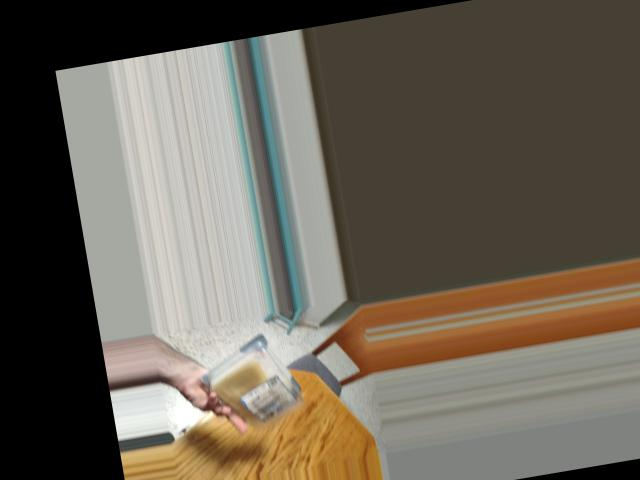cheese: (206, 345, 302, 430)
